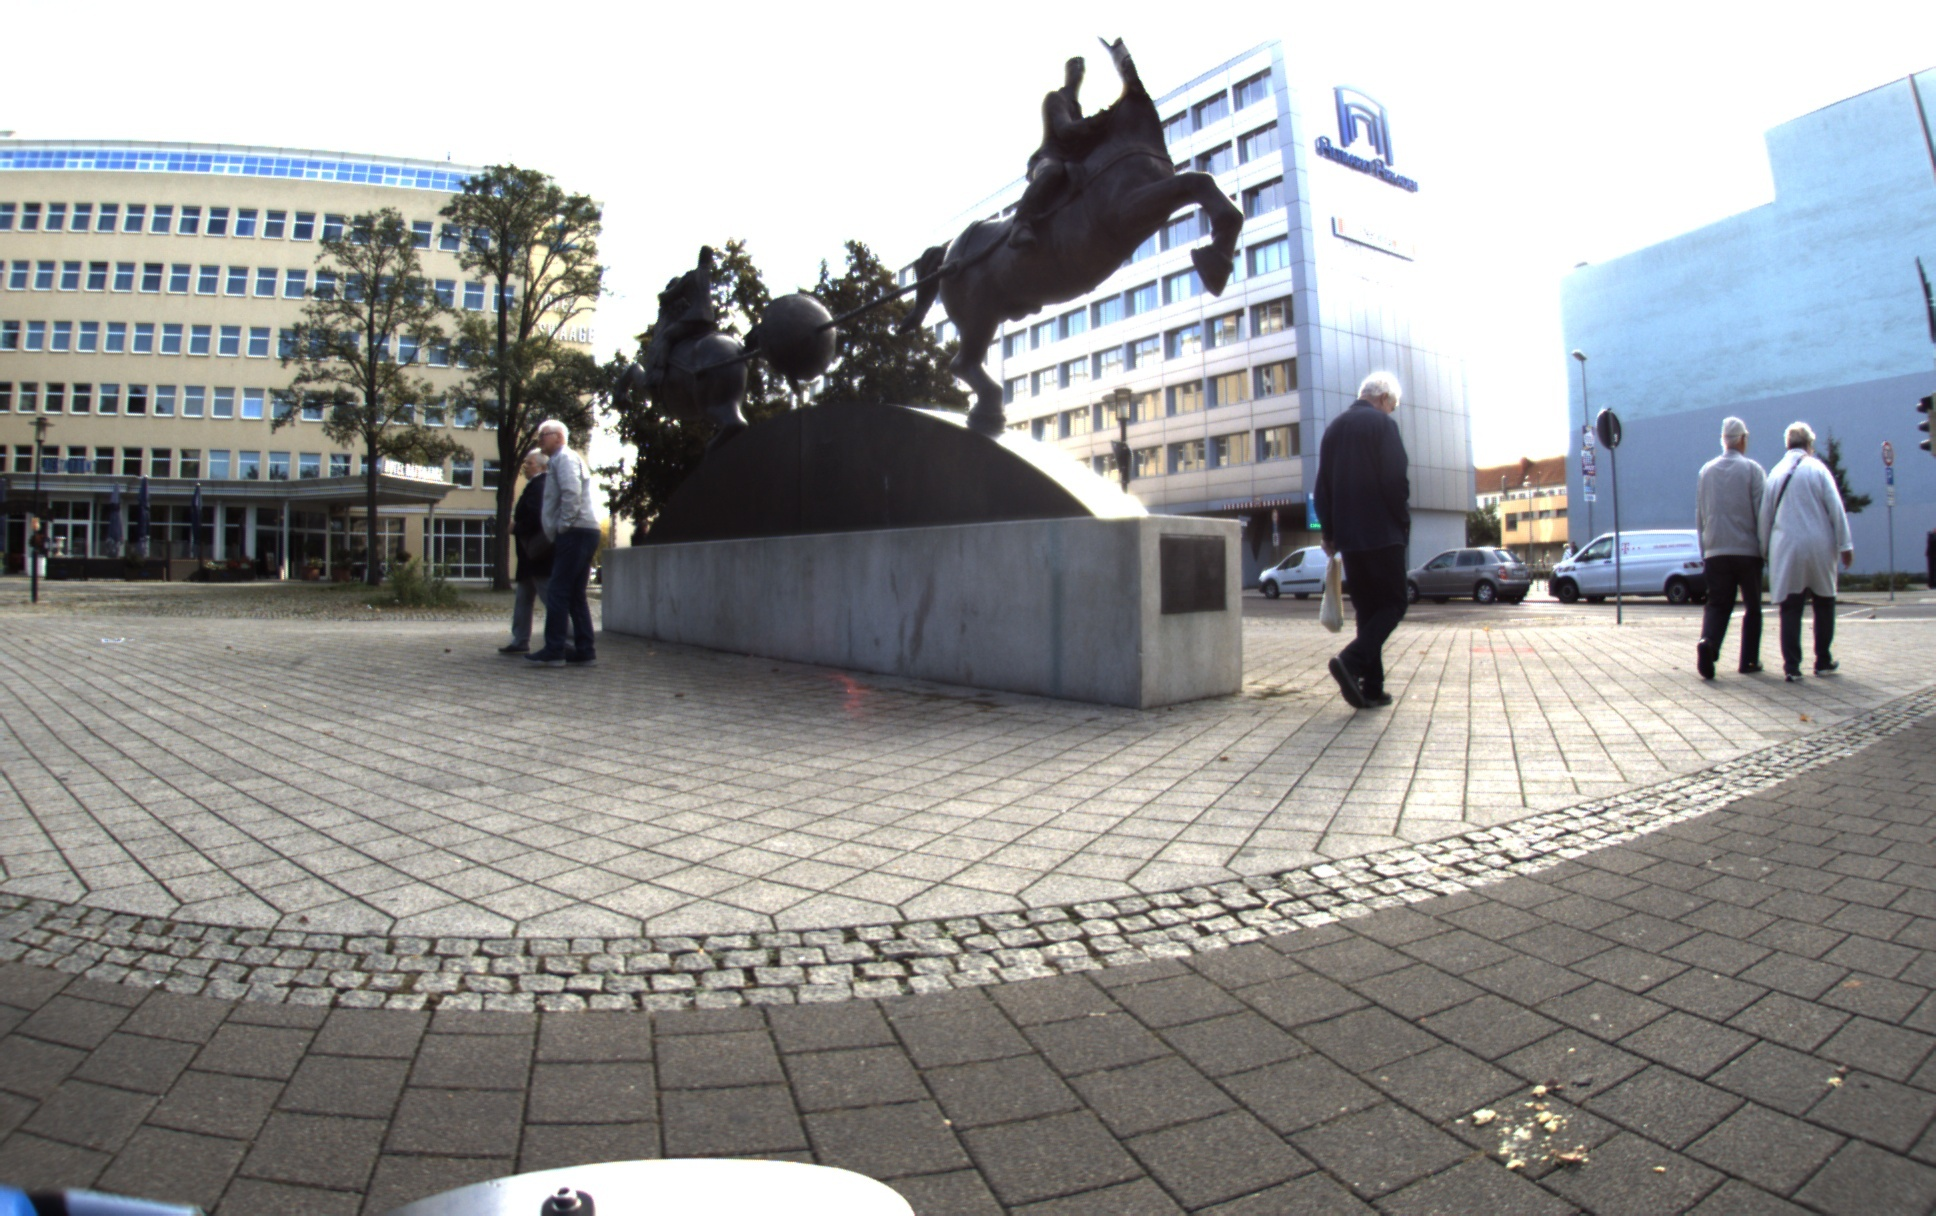adult without baby buggy or mobility support: (1313, 369, 1409, 709), (1760, 419, 1854, 682), (524, 415, 599, 667), (1696, 414, 1762, 681), (493, 448, 555, 655)
car: (1407, 546, 1531, 603)
transporter: (1548, 528, 1705, 604), (1257, 544, 1349, 599)
